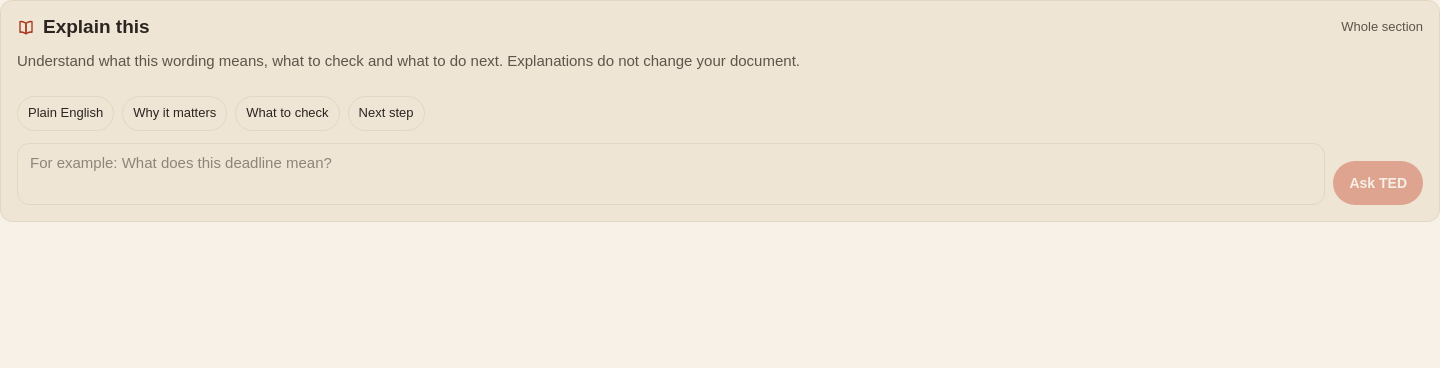
Workspace assistance › shows an actionable failure even when no running transition occurred
Click the button "Plain English" at (66, 114), box [17,96,114,131]
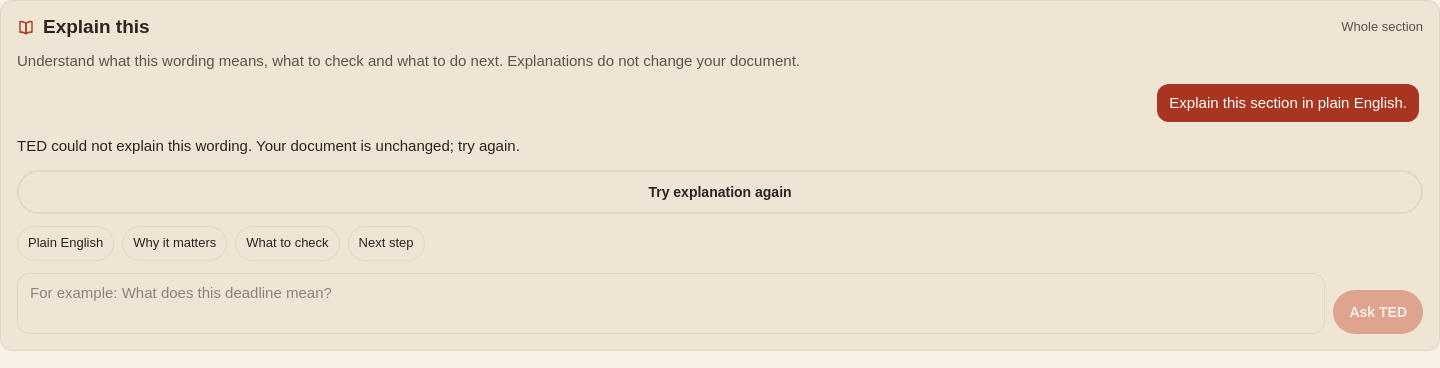
Now the message shows "try again", box [17,137,520,154]
Now the button "Try explanation again" is enabled, box [17,170,1423,214]
